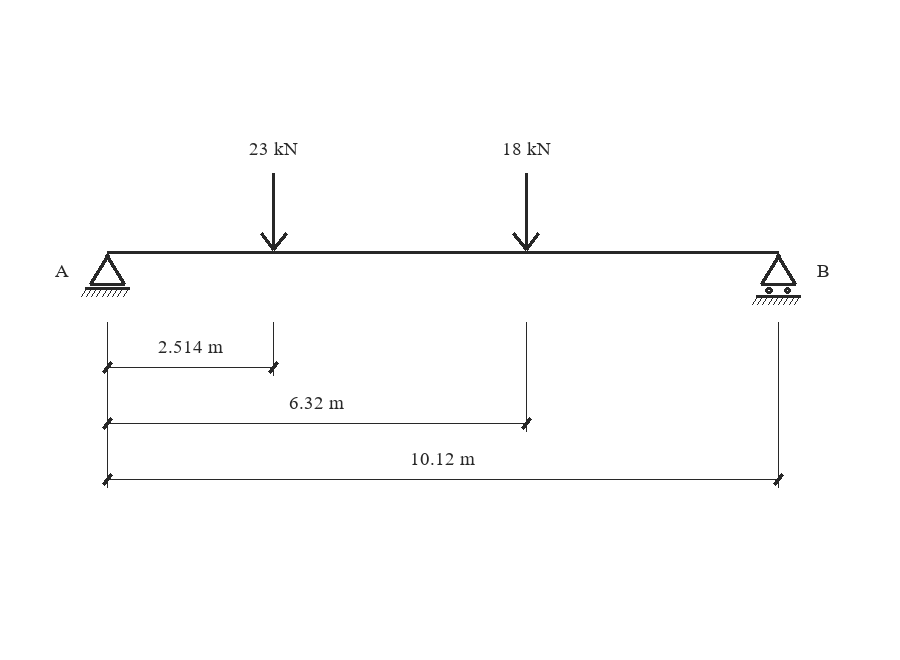pin_support: (81, 254, 130, 297)
point_load: (260, 173, 288, 251), (512, 173, 540, 251)
roller_support: (752, 254, 801, 305)
